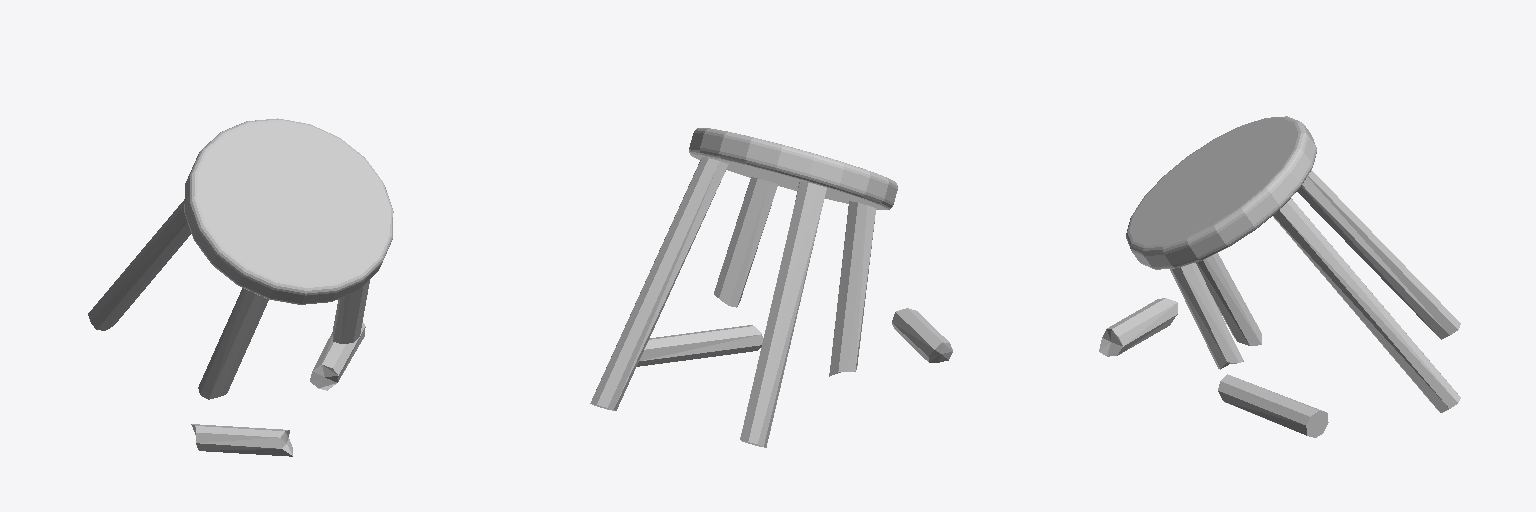
The model's file is Stool_A_Broken.obj.
3 renders of one model, left to right at view 1: azimuth 30°, elevation 25°; view 2: azimuth 150°, elevation 25°; view 3: azimuth 270°, elevation 25°, orthographic.
Visible parts, largest first — view 1: Stool_A_Broken; view 2: Stool_A_Broken; view 3: Stool_A_Broken.
Boxes of the visible parts, x1,y1,x2,y2 form: Stool_A_Broken: [88, 118, 393, 456]; Stool_A_Broken: [590, 128, 952, 447]; Stool_A_Broken: [1099, 116, 1460, 437].
Size of the model in its own units: 12.49 by 12.16 by 15.95.